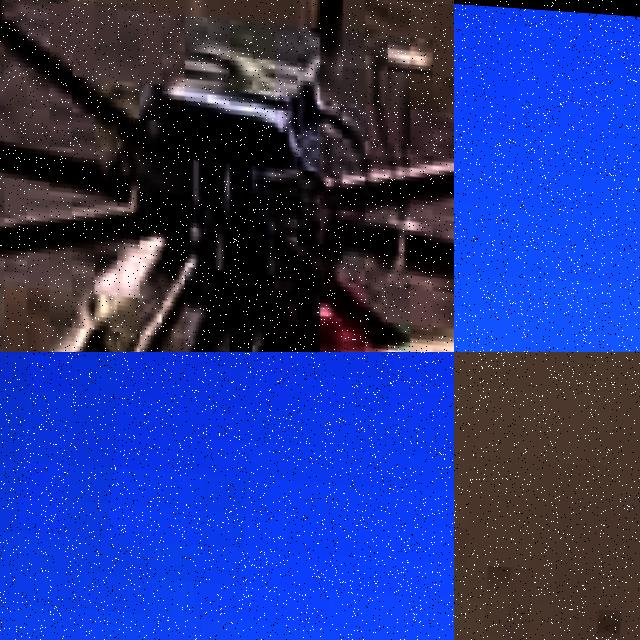drone: (0, 0, 454, 352)
